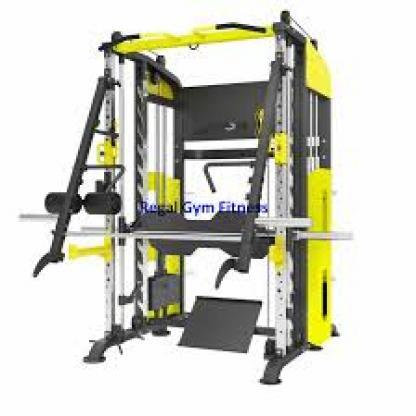smith machine: (33, 9, 354, 385)
